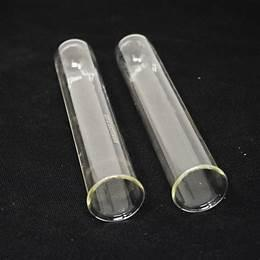Test tube: (39, 42, 226, 222)
